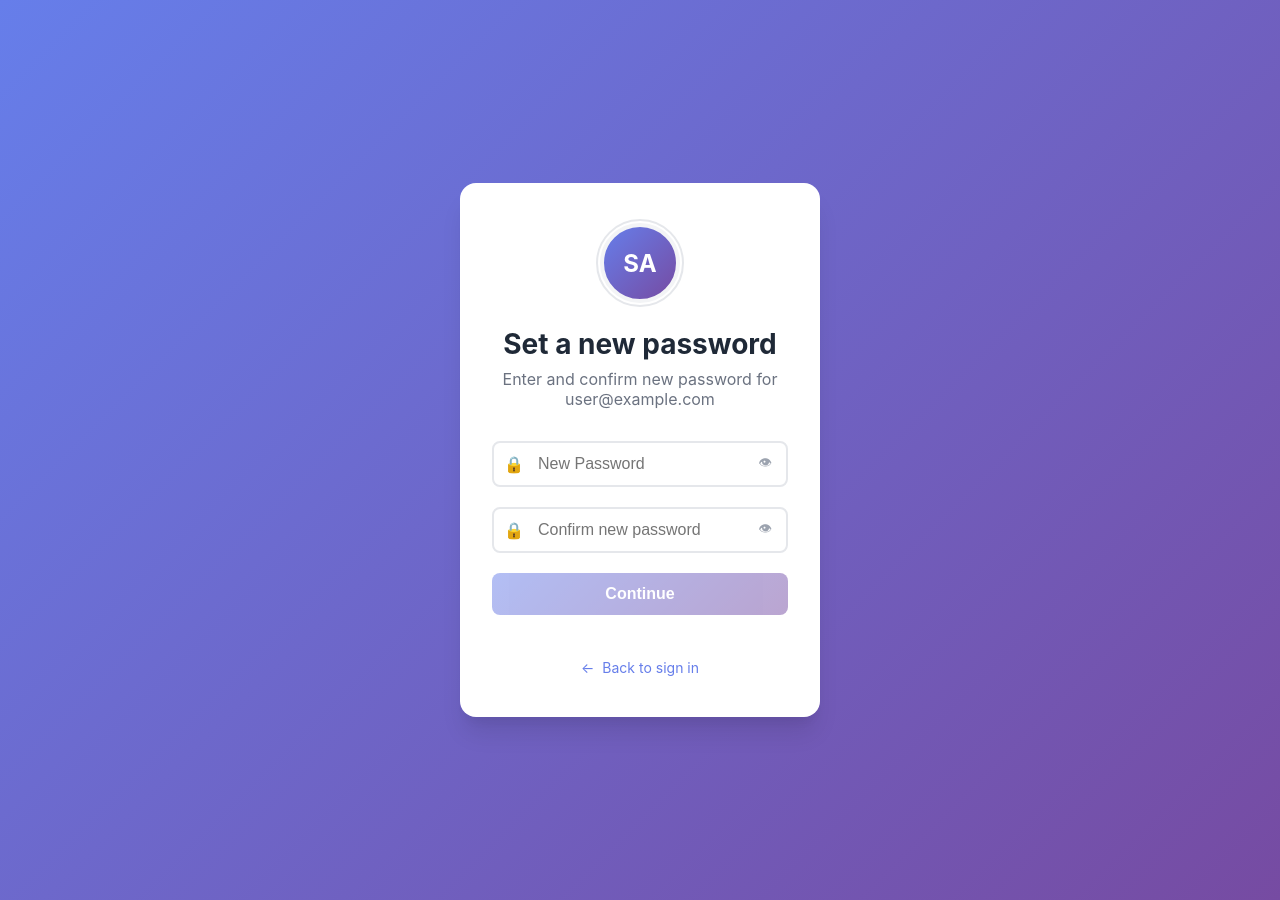
Scenario: ResetPassword Component › handles password mismatch error from API (EX_7.4)
Type "ValidPass123!" into the password field with placeholder "New Password".
click(640, 464); type("ValidPass123!")  # box top-left (492, 441), bottom-right (788, 487)
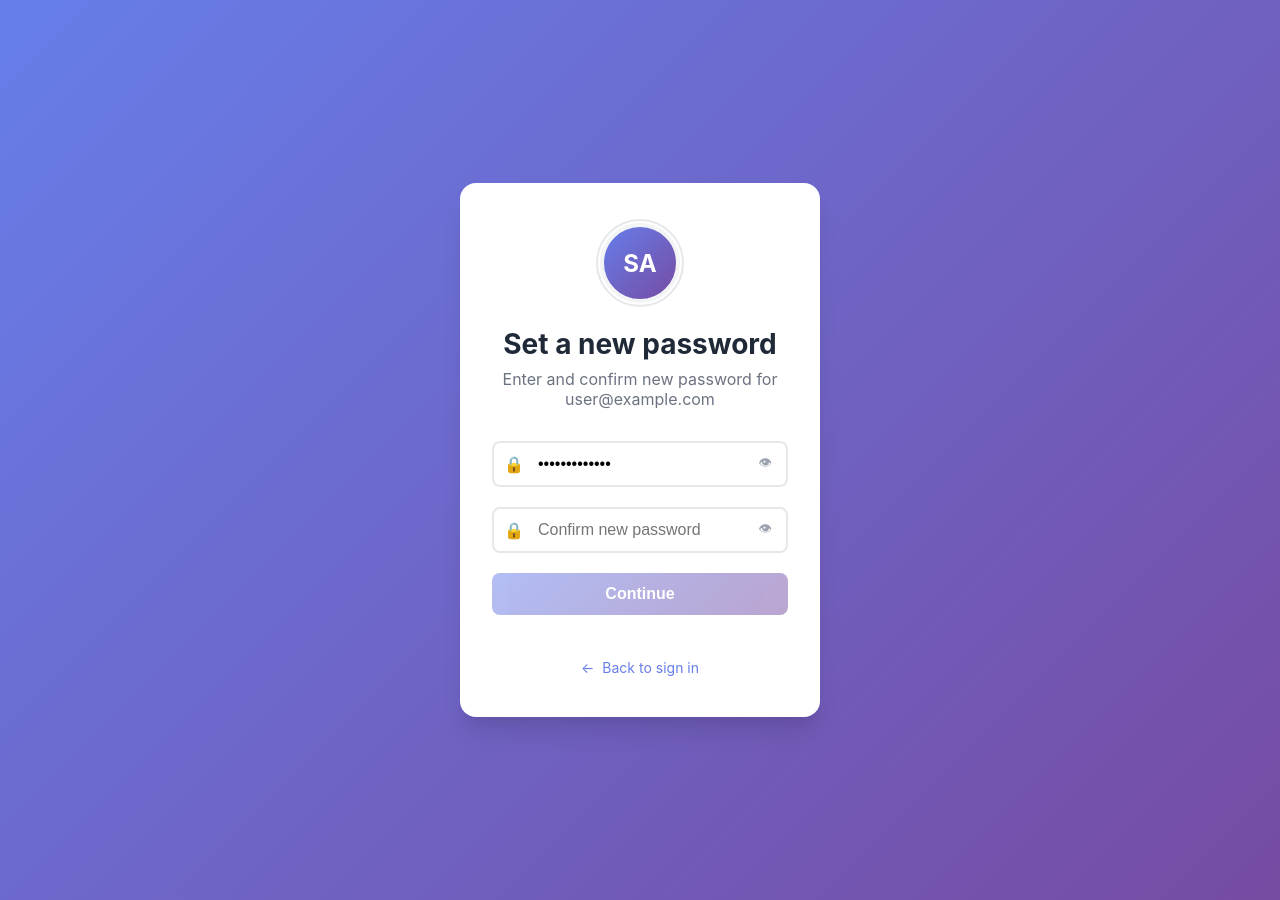
Type "ValidPass123!" into the password field with placeholder "Confirm new password".
click(640, 530); type("ValidPass123!")  # box top-left (492, 507), bottom-right (788, 553)
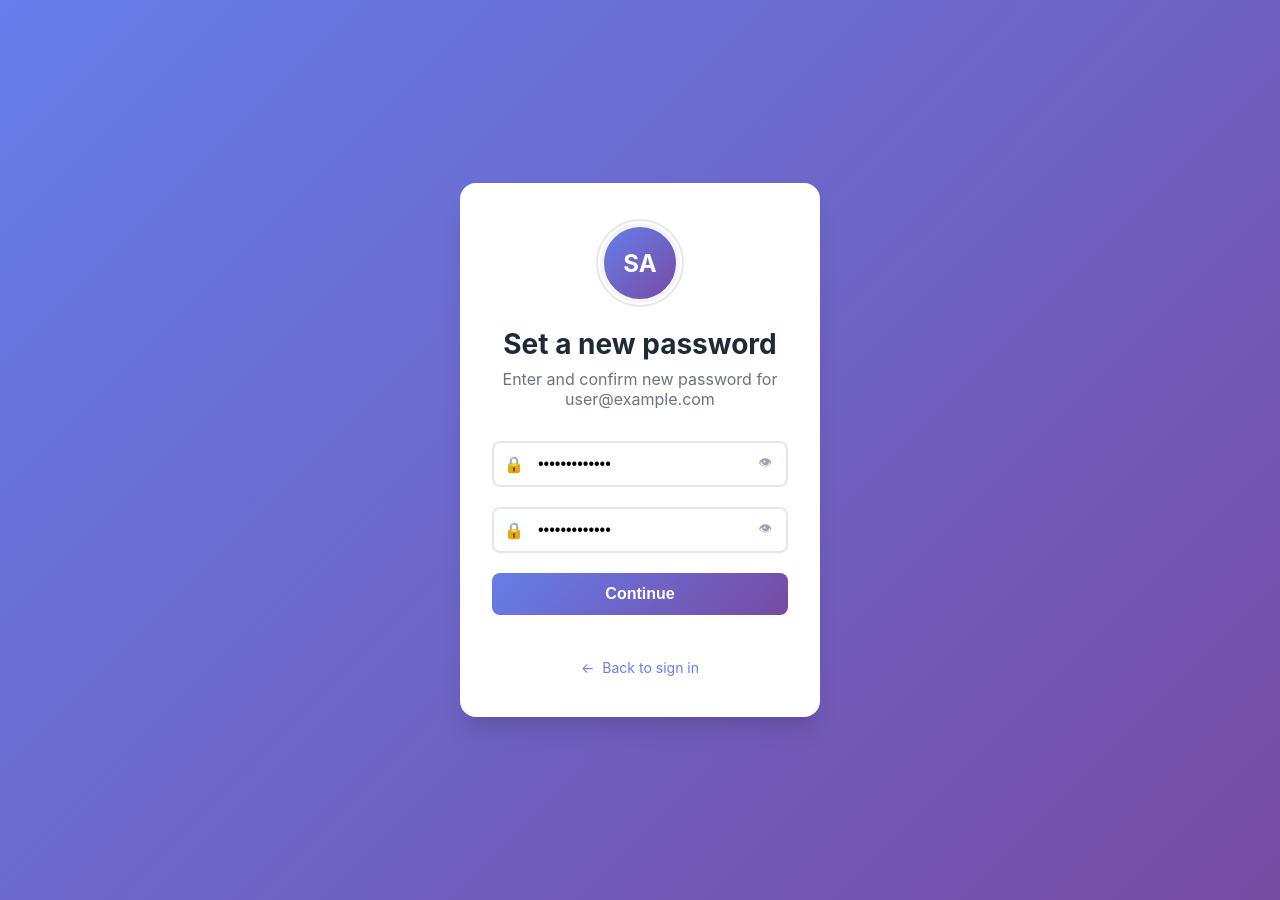
Click the button "Continue".
click(640, 594)  # box top-left (492, 573), bottom-right (788, 615)
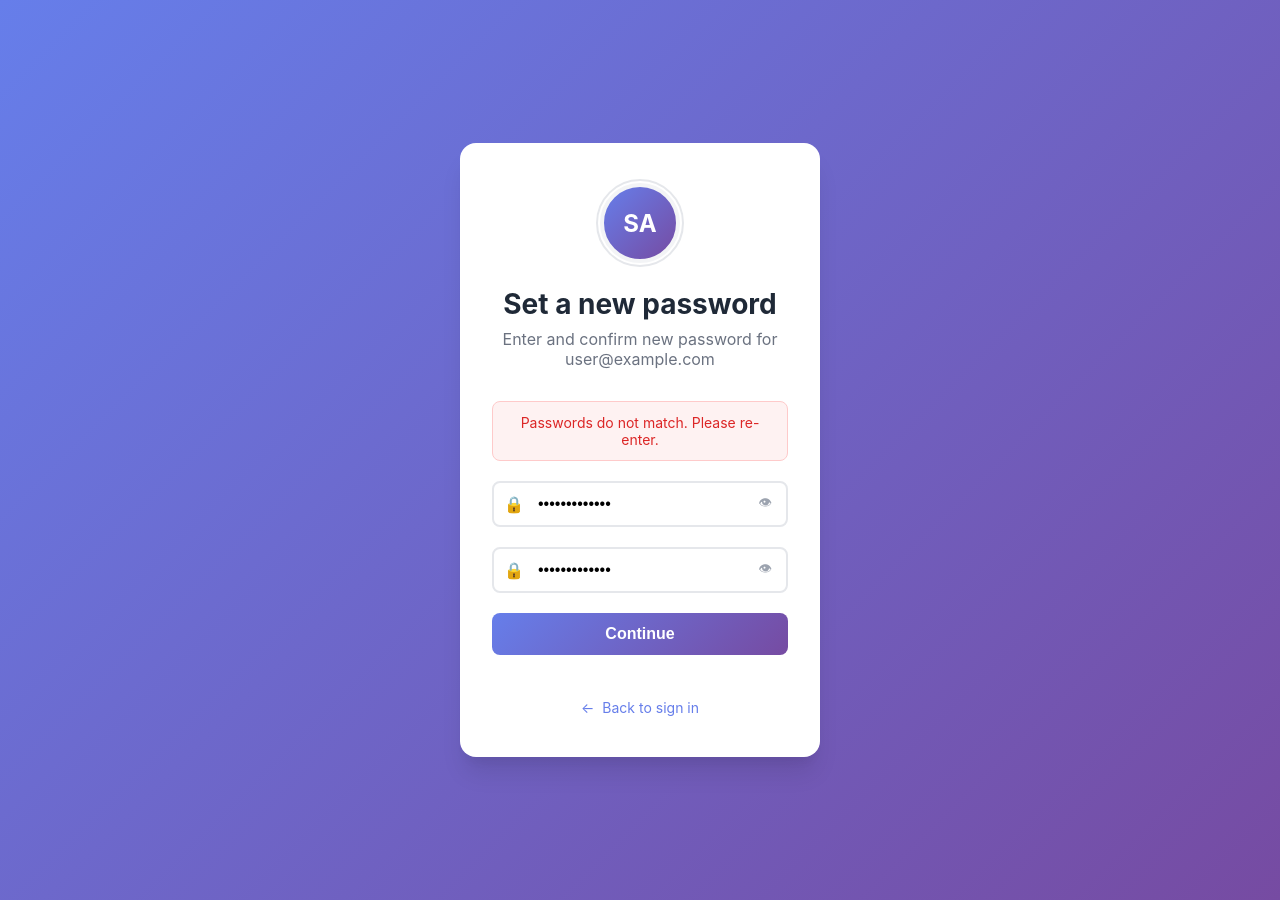
Check: the text "Passwords do not match. Please re-enter." is shown, box top-left (492, 401), bottom-right (788, 461)
